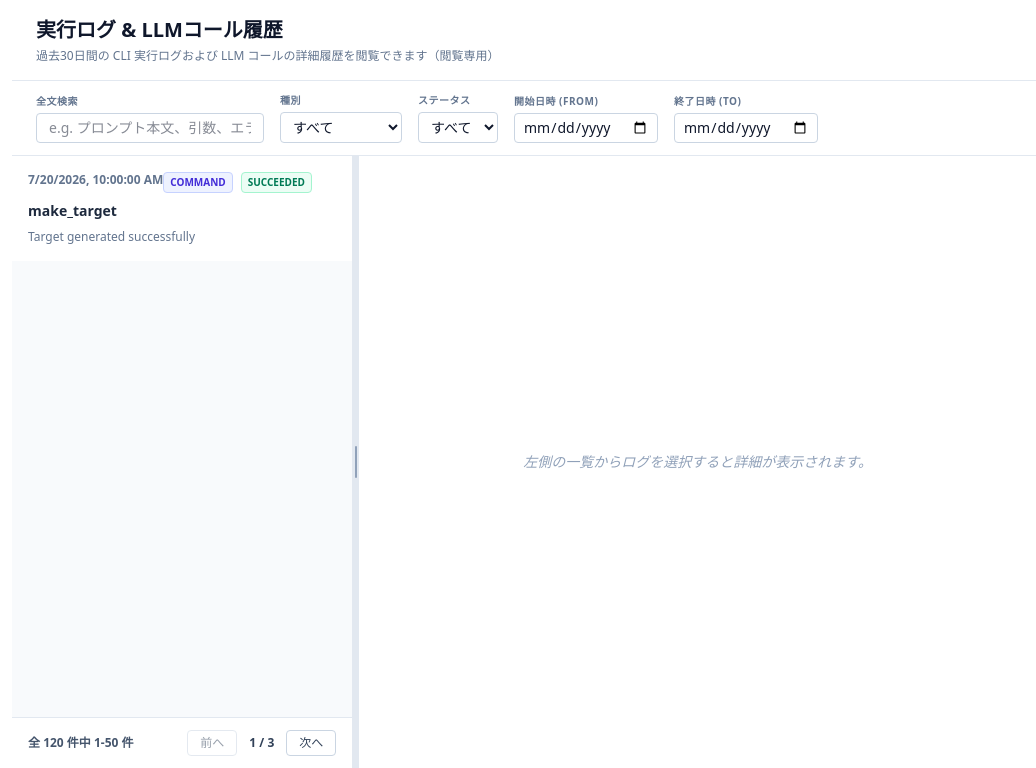
Scenario: sends q param and resets to the first page on input
Click the button "次へ" at (311, 743), box [286,730,336,756]
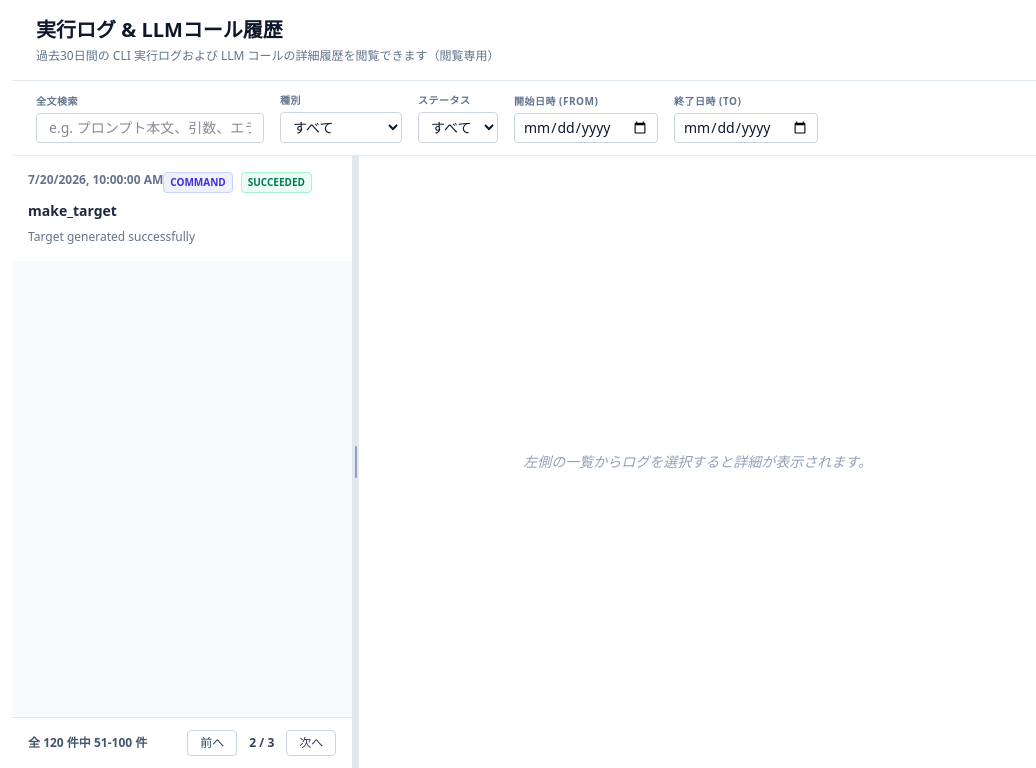
Type "hello" into the field with placeholder "e.g. プロンプト本文、引数、エラー文言" at (150, 128), box [36,112,264,142]
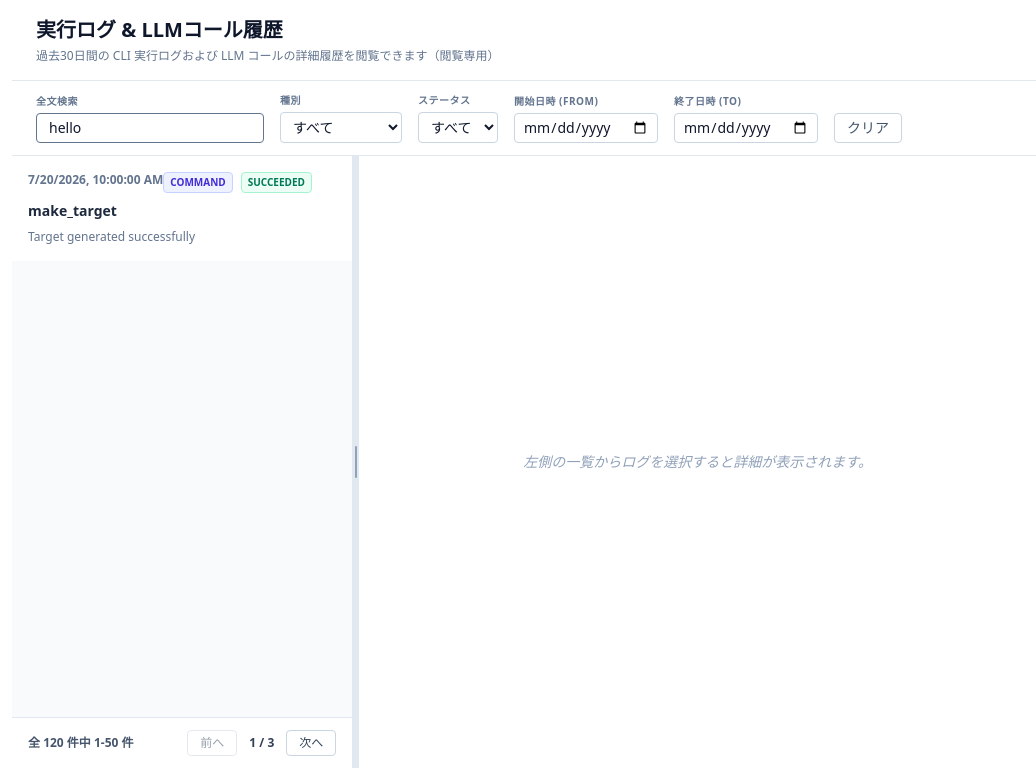
Result: the text "1 / 3" is shown at [249,734,274,751]
